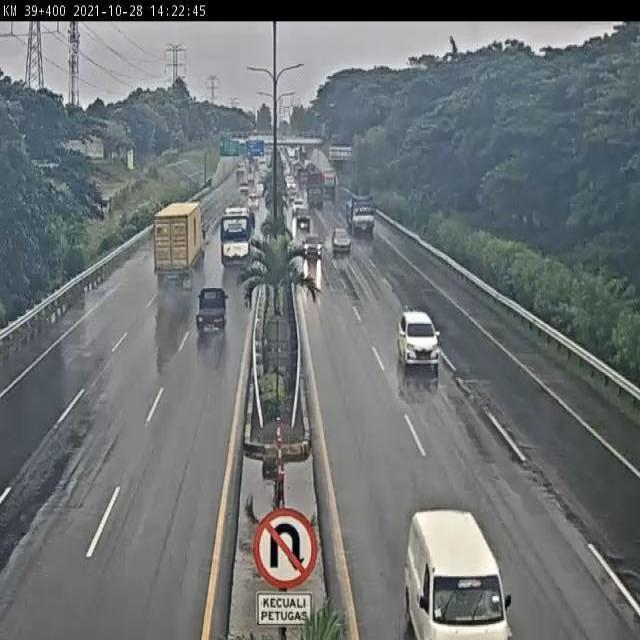ARABA: (196, 284, 232, 337)
OTOBUS: (219, 205, 256, 267)
TIR: (153, 200, 208, 288)
